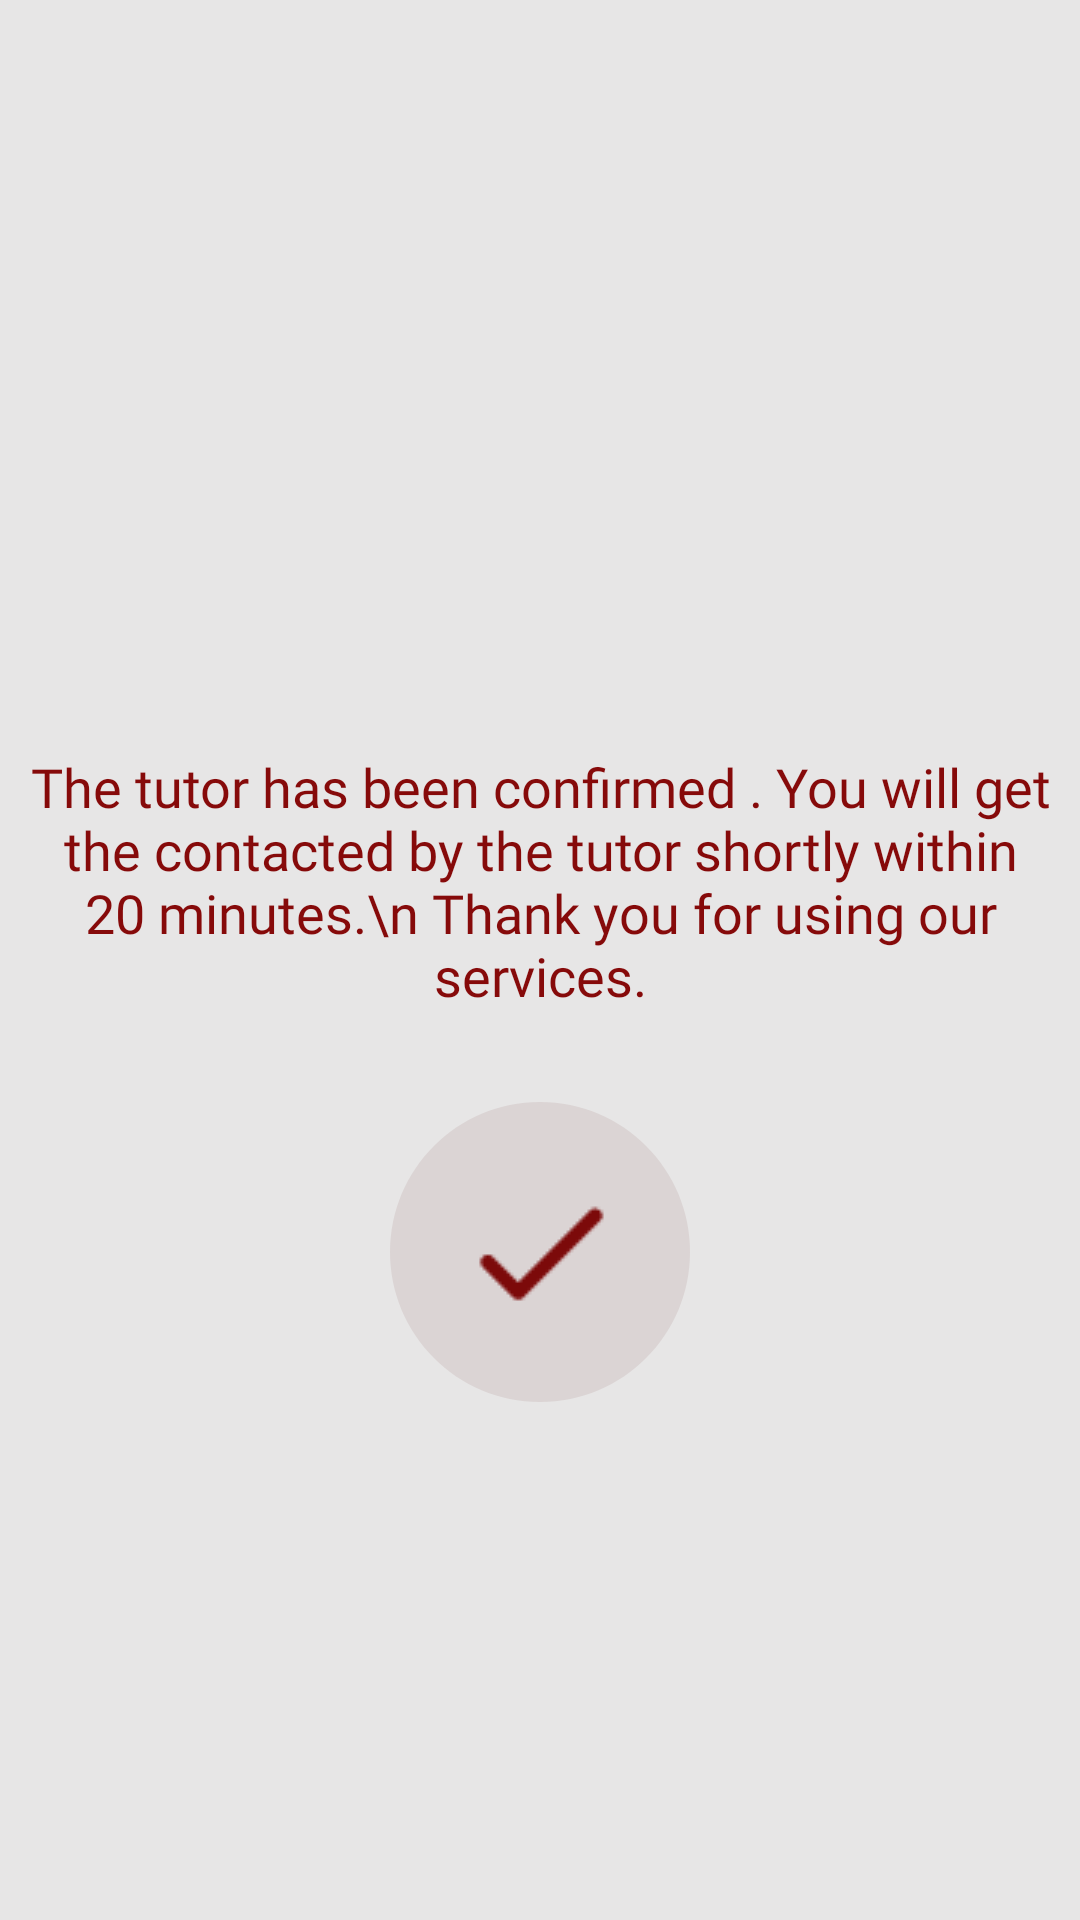

Icon bounding boxes for this 1080 × 1920 phone screenshot, format (x1, y1, x2, y2):
check: (479, 1206, 604, 1301)
